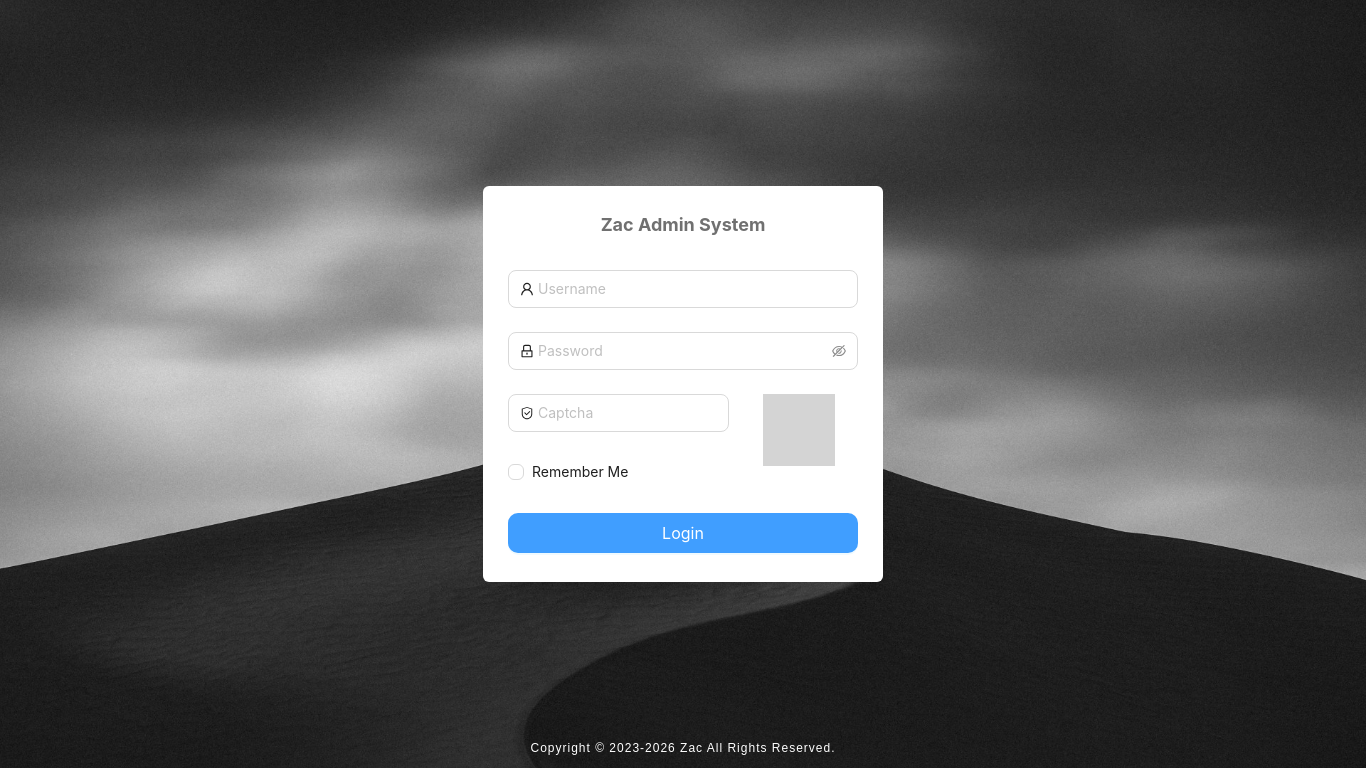
it: login › shows the server message on wrong password
Type "admin" into the field named "账号". click: (692,289)
box: x1=538 y1=275 x2=846 y2=303
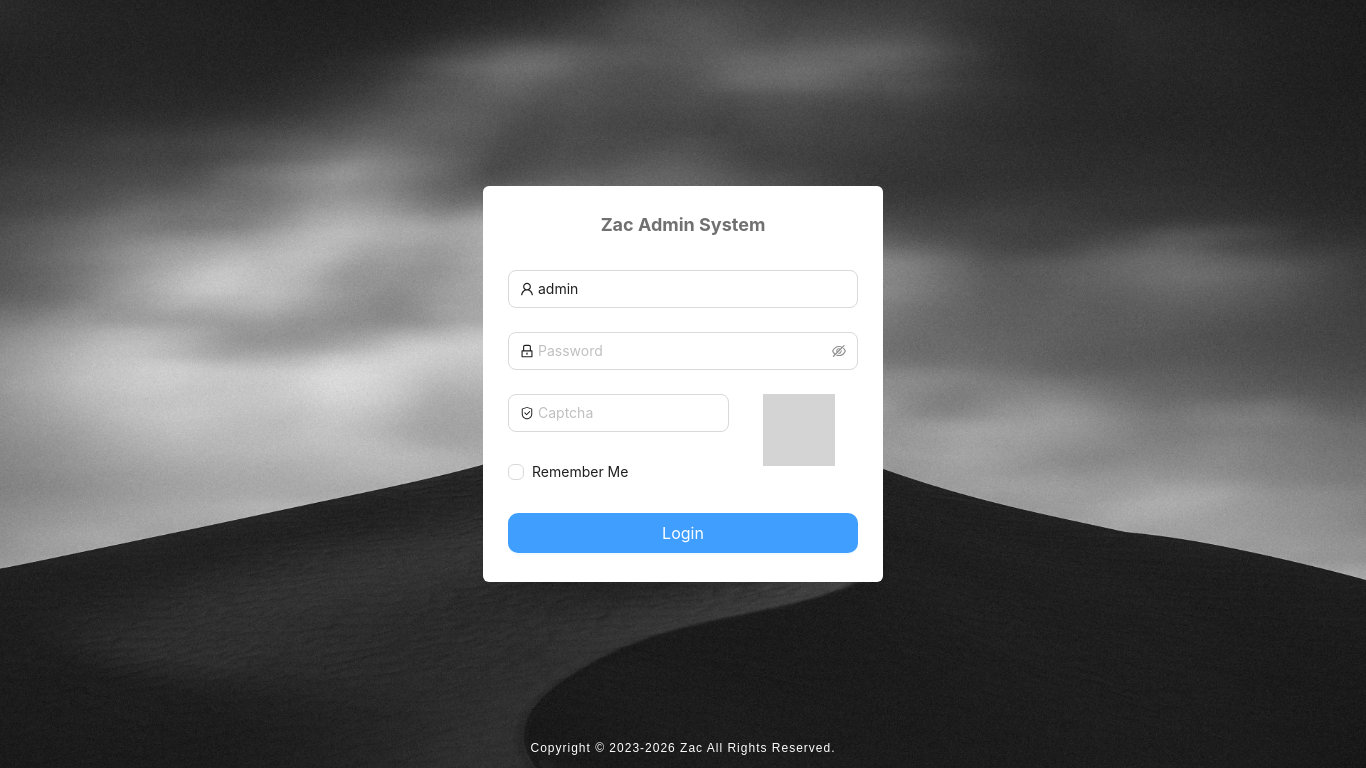
Type "test-only-password" into the password field named "密码". click: (683,351)
box: x1=538 y1=337 x2=828 y2=365
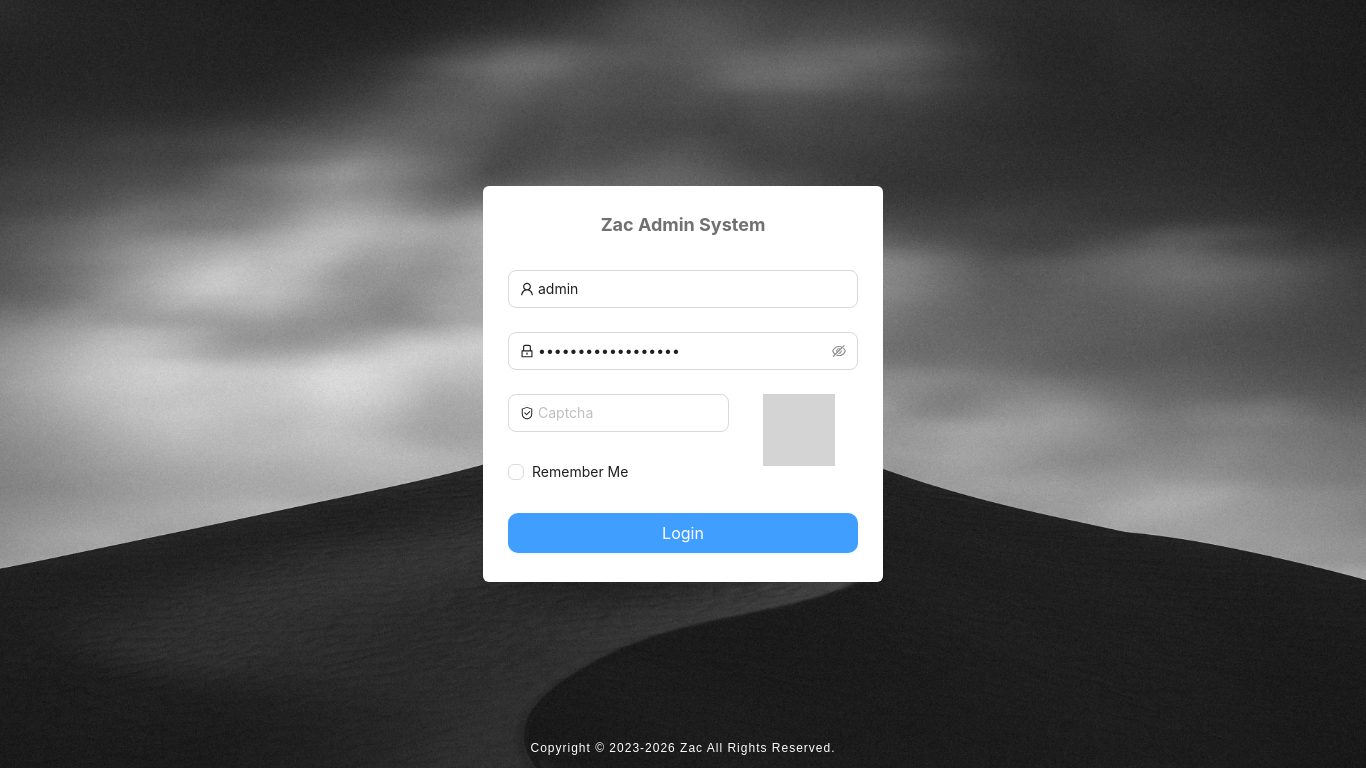
Type "7" into the field named "验证码". click: (627,413)
box: x1=538 y1=399 x2=716 y2=427
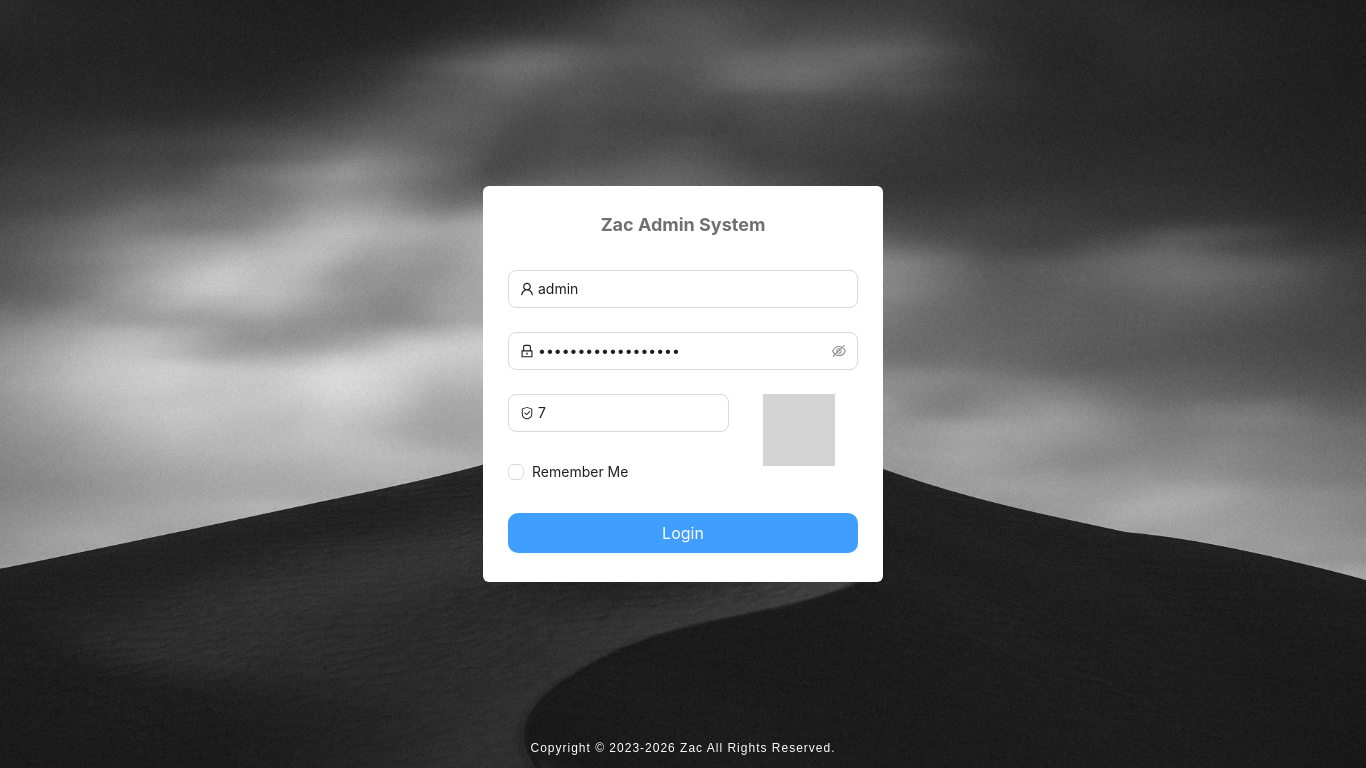
Click the button "Login". click: (683,533)
box: x1=508 y1=513 x2=858 y2=553
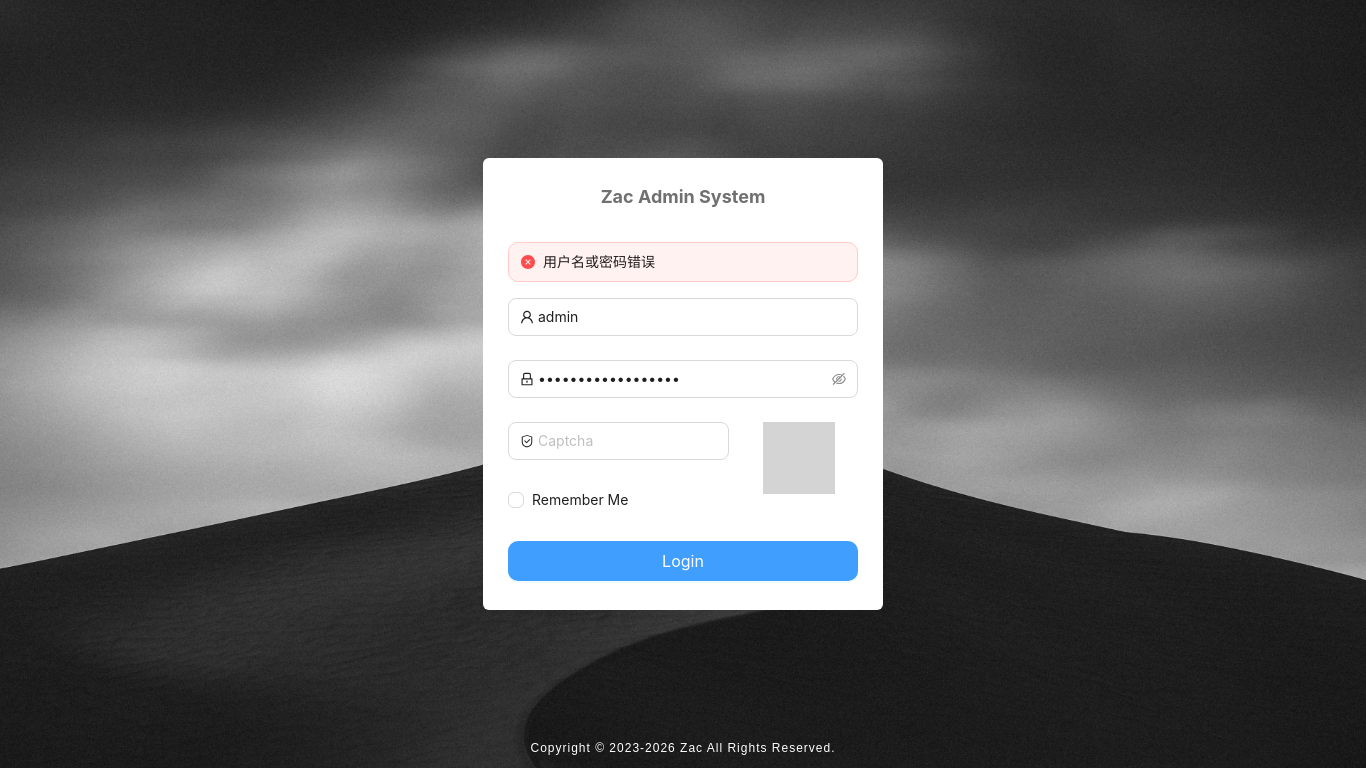
Expected: the text "用户名或密码错误" is shown, x1=543 y1=253 x2=655 y2=270
